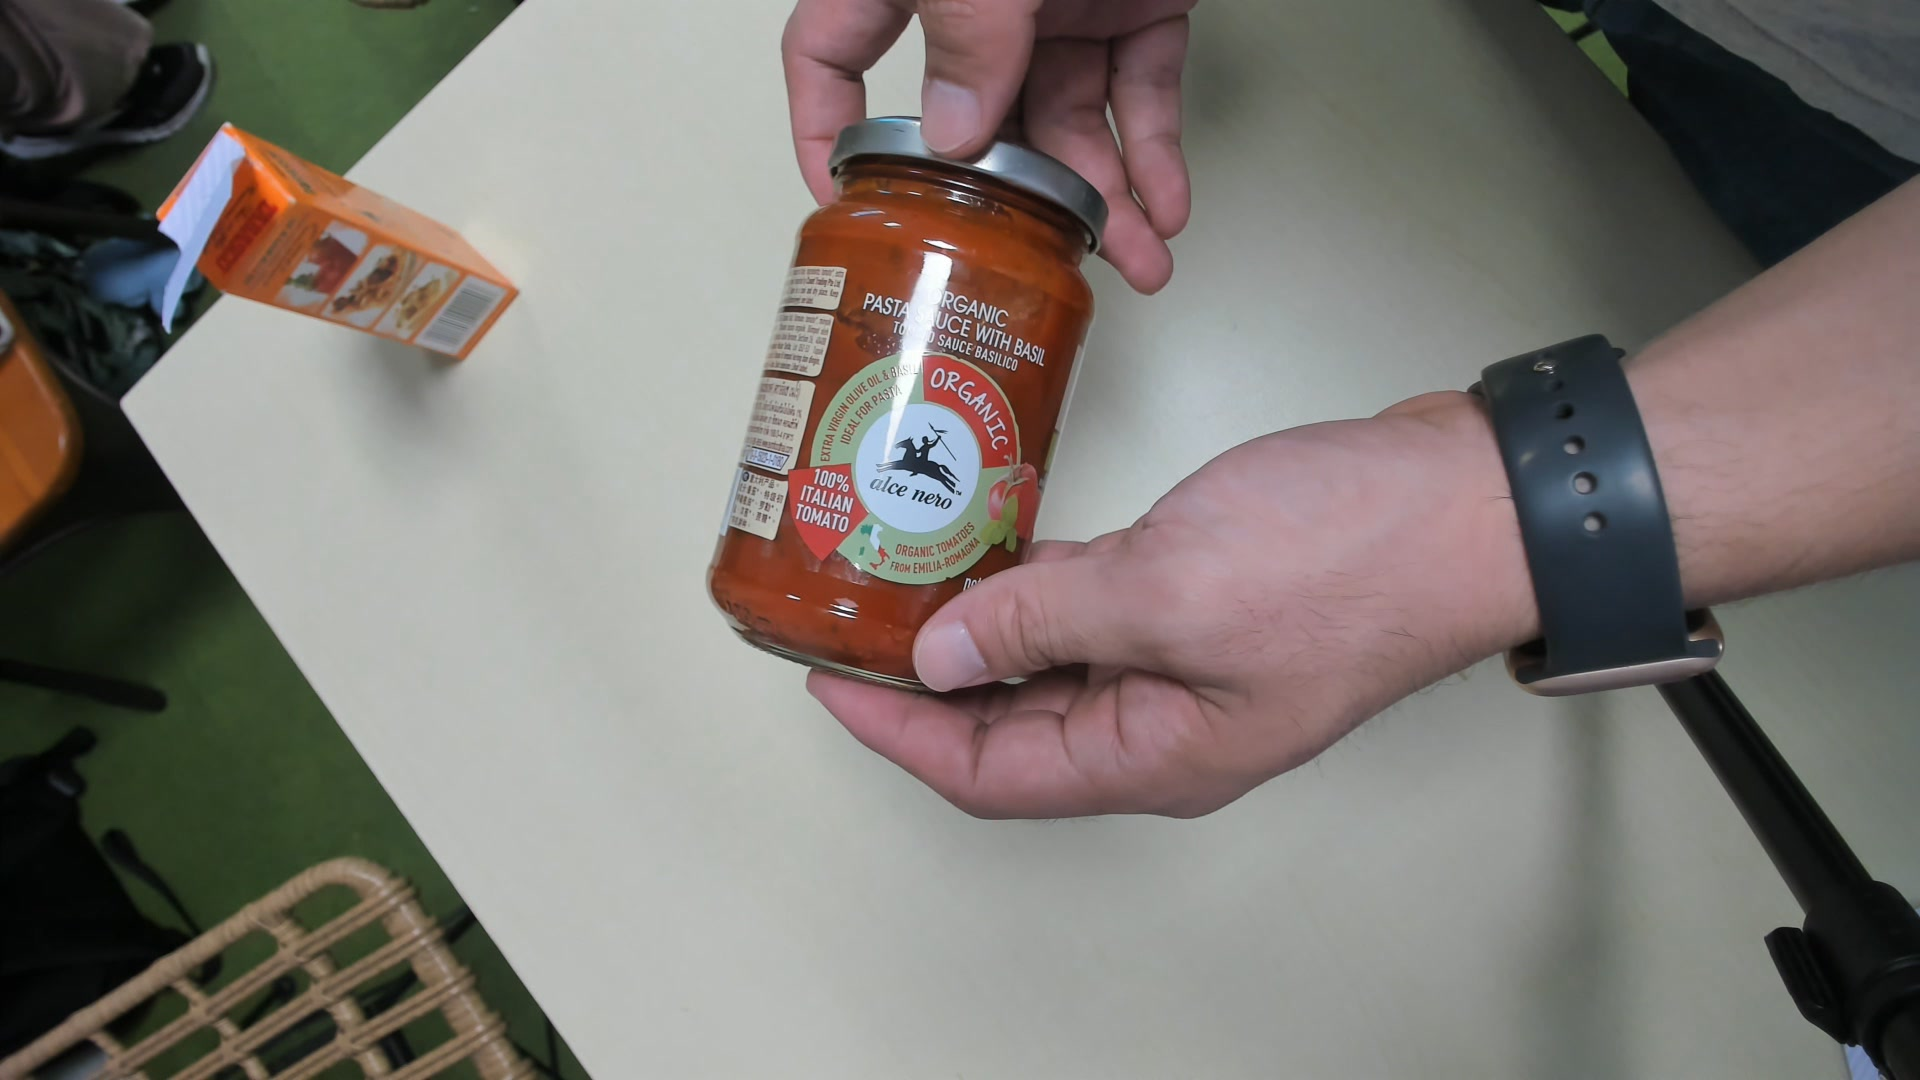PastaSauce_300-399g_NonHalal_NonHealthy: (709, 120, 1112, 694)
